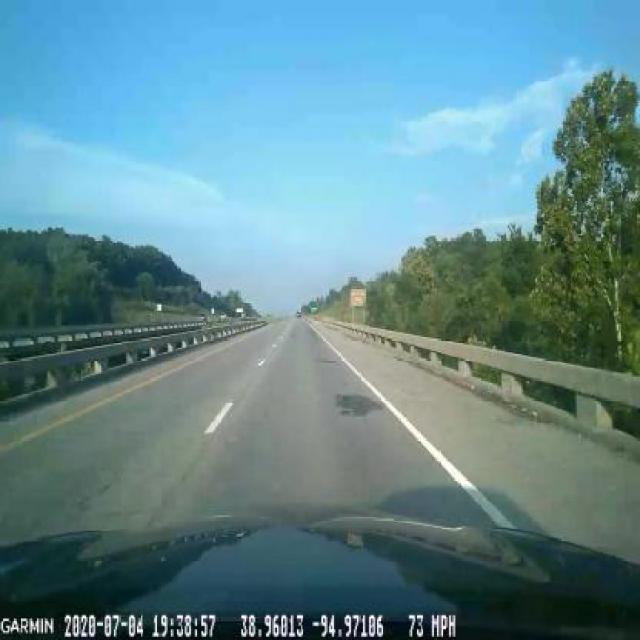pothole: (330, 376, 386, 432)
